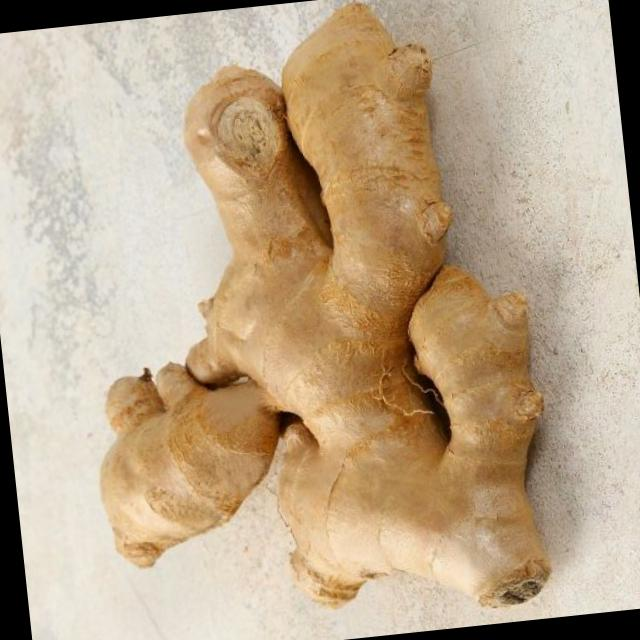ginger-root: (42, 0, 608, 640)
